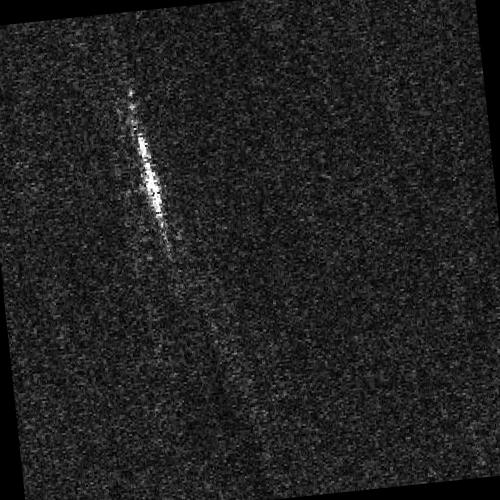ship: (135, 130, 164, 231)
